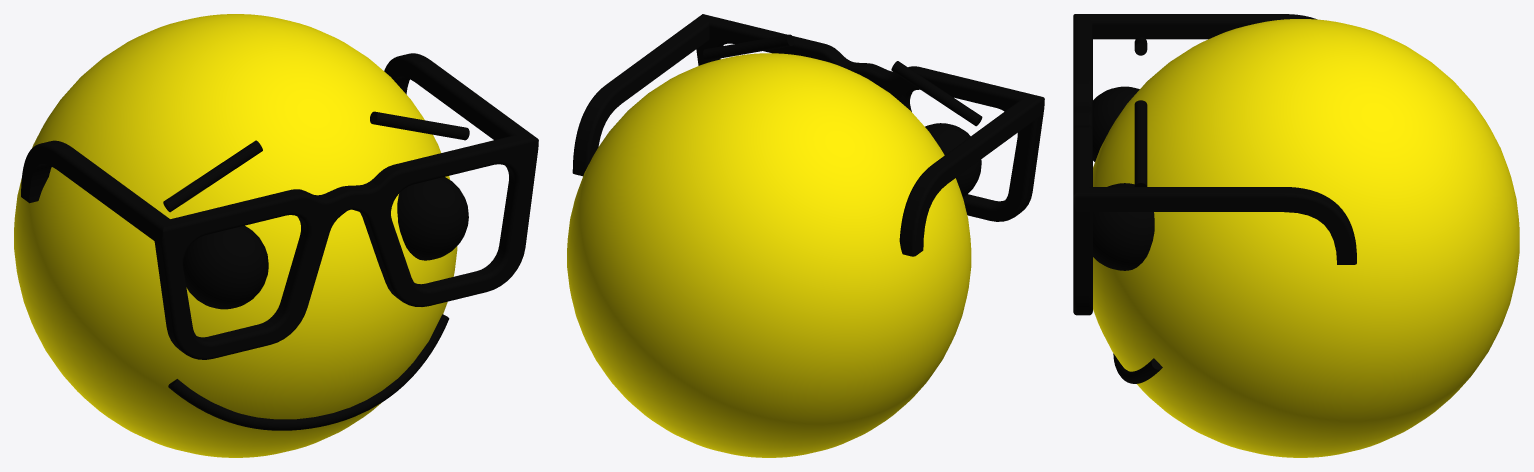
File: nerd_smile.glb
3 views of the same model, side by side, from view 1: azimuth 30°, elevation 25°; view 2: azimuth 150°, elevation 25°; view 3: azimuth 270°, elevation 25° (orthographic). The views are drawn at different scales.
Visible parts, largest first — view 1: testa, occhiali, occhio1, occhio2, bocca, sopraccilio1, sopraccilio2; view 2: testa, occhiali, occhio1, sopraccilio1, sopraccilio2; view 3: testa, occhiali, occhio2, occhio1, sopraccilio2, bocca.
Boxes of the visible parts, <box> form: testa: <box>14,14,457,457</box>; occhiali: <box>21,53,538,359</box>; occhio1: <box>183,225,268,309</box>; occhio2: <box>397,177,468,260</box>; bocca: <box>168,314,449,430</box>; sopraccilio1: <box>163,140,262,212</box>; sopraccilio2: <box>370,111,469,140</box>; testa: <box>567,53,971,457</box>; occhiali: <box>572,14,1044,256</box>; occhio1: <box>925,123,981,197</box>; sopraccilio1: <box>891,61,982,126</box>; sopraccilio2: <box>703,34,793,60</box>; testa: <box>1093,19,1519,457</box>; occhiali: <box>1073,14,1356,315</box>; occhio2: <box>1093,183,1154,270</box>; occhio1: <box>1093,86,1139,161</box>; sopraccilio2: <box>1134,100,1147,186</box>; bocca: <box>1113,353,1162,383</box>.
Bounding box in the file's own units: 0.7046 × 0.7062 × 0.7179.
